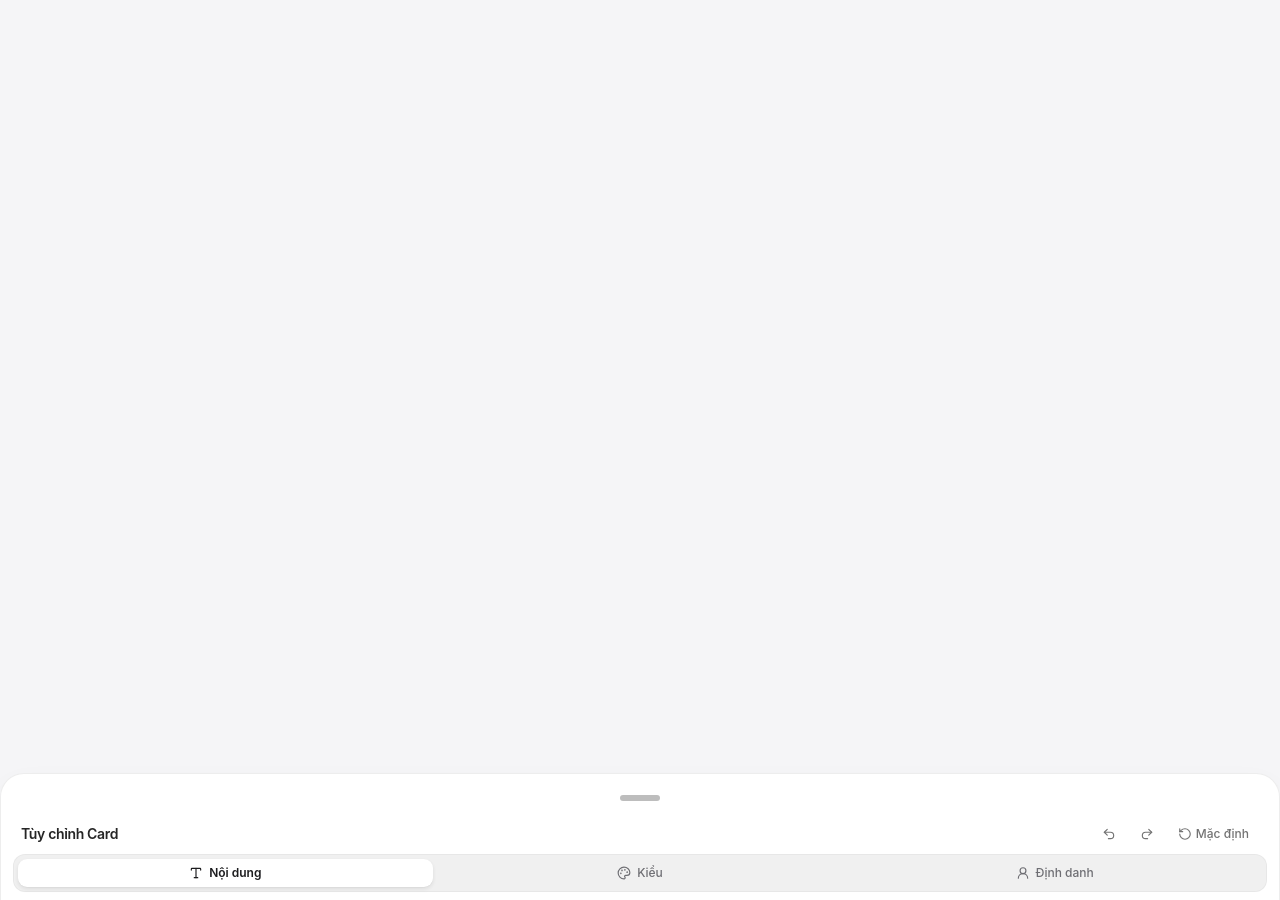
Test: MobileSheet › swaps the hosted Inspector group when a tab is activated
This screenshot has width=1280, height=900.
Click the radio button labelled "Kiểu". click: (640, 872)
box: [617,865,663,880]
(page scrolled)
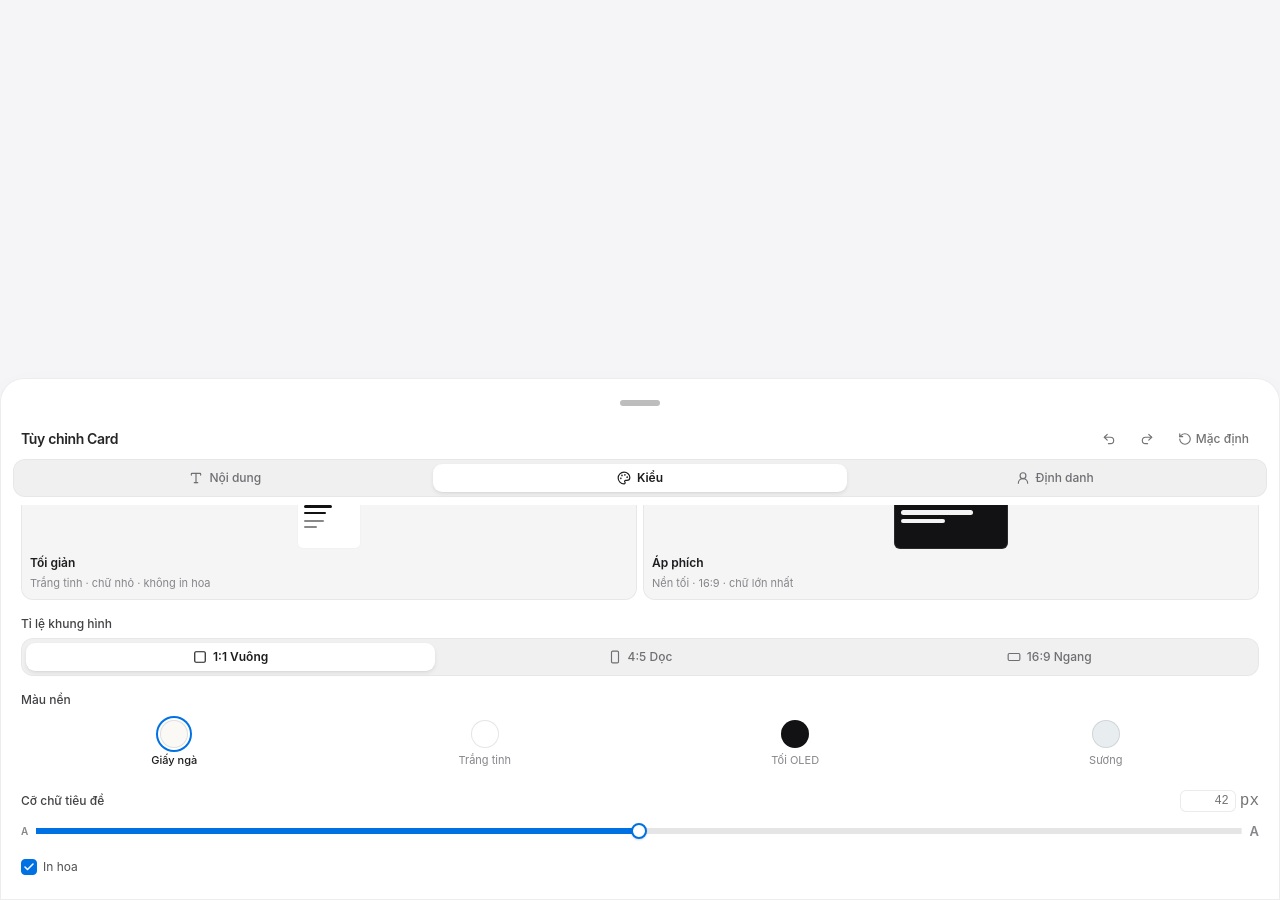
Expected: the element named "Tỉ lệ khung hình" is shown, [21,638,1259,676]
Expected: the slider labelled "Cỡ chữ tiêu đề" is shown, [36,819,1242,843]
